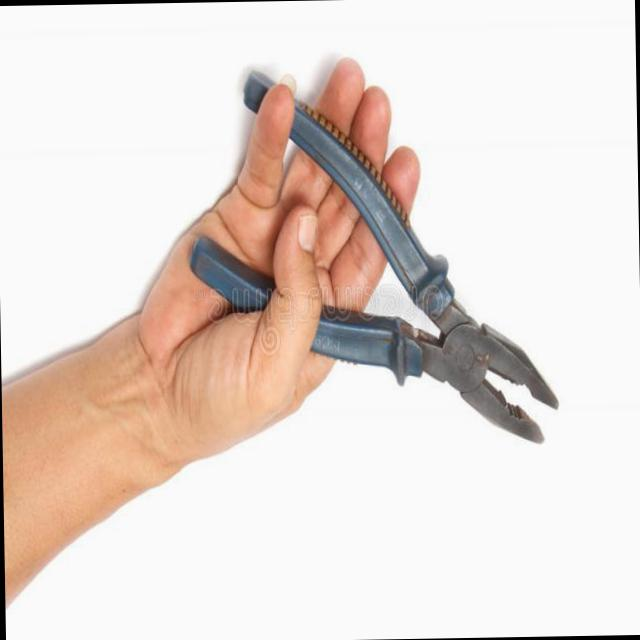pliers: (291, 104, 556, 442), (190, 238, 273, 310)
